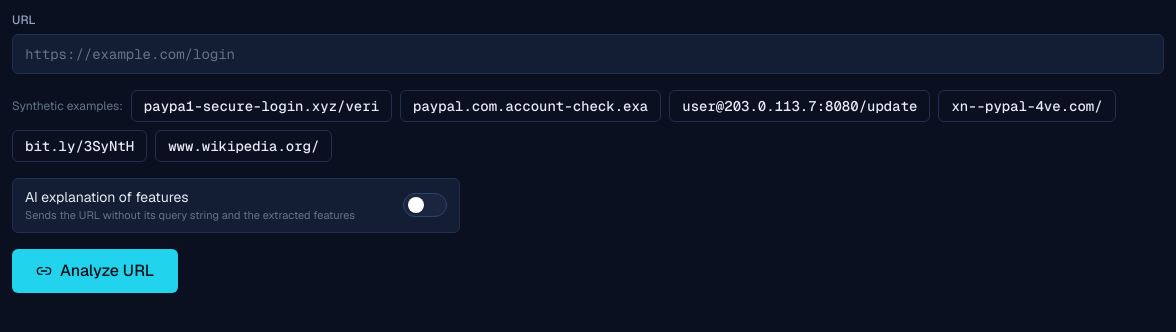
Test: UrlForm validation › rejects javascript:alert(1)
This screenshot has width=1176, height=332.
Step 1. Type "javascript:alert(1)" into the field labelled "URL" → x=588, y=54, box [12,34,1164,74]
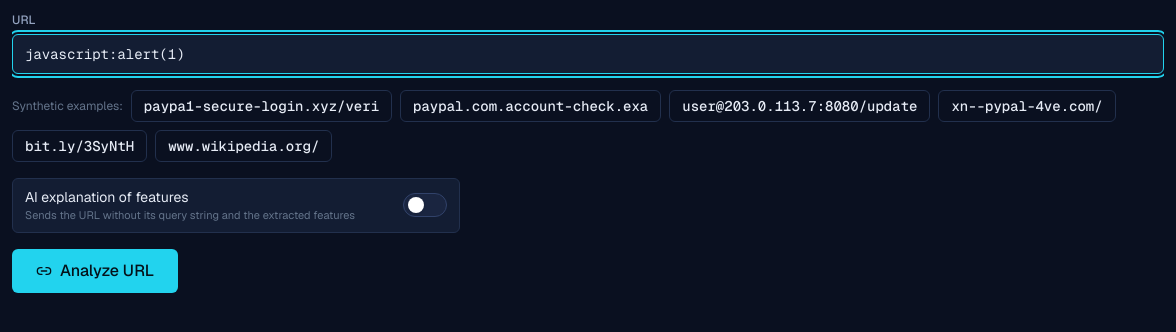
Step 2. Click the button "Analyze URL" → x=95, y=270, box [12,248,178,292]
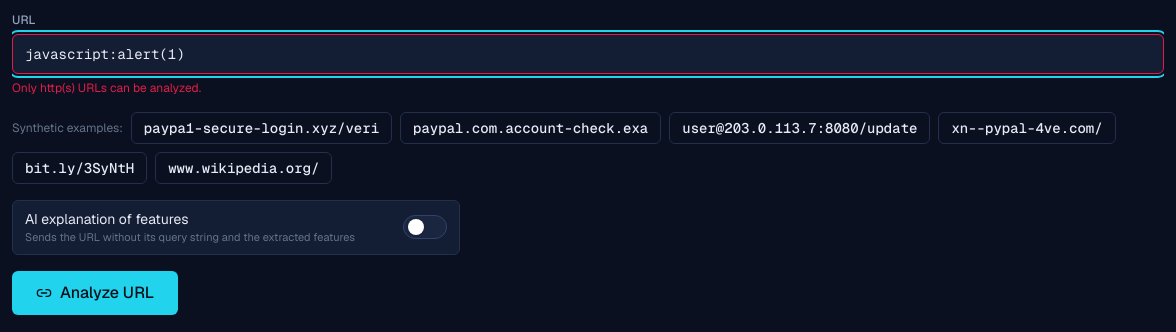
Result: the message "Only http(s) URLs can be analyzed." is shown at [12,80,201,96]
